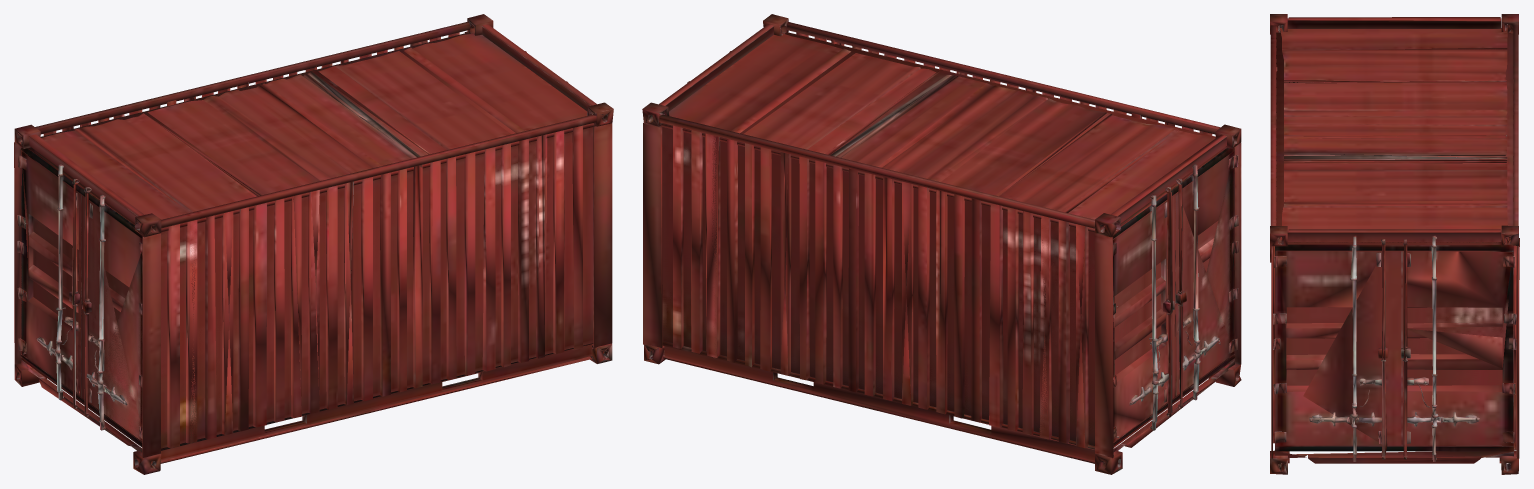
Rendered from container.glb.
3 renders of one model, left to right at view 1: azimuth 30°, elevation 25°; view 2: azimuth 150°, elevation 25°; view 3: azimuth 270°, elevation 25°, orthographic. The views are drawn at different scales.
Bounding box in the file's own units: 0.9648 × 0.4839 × 0.4541.
Materials: 1 (1 with a texture image).
